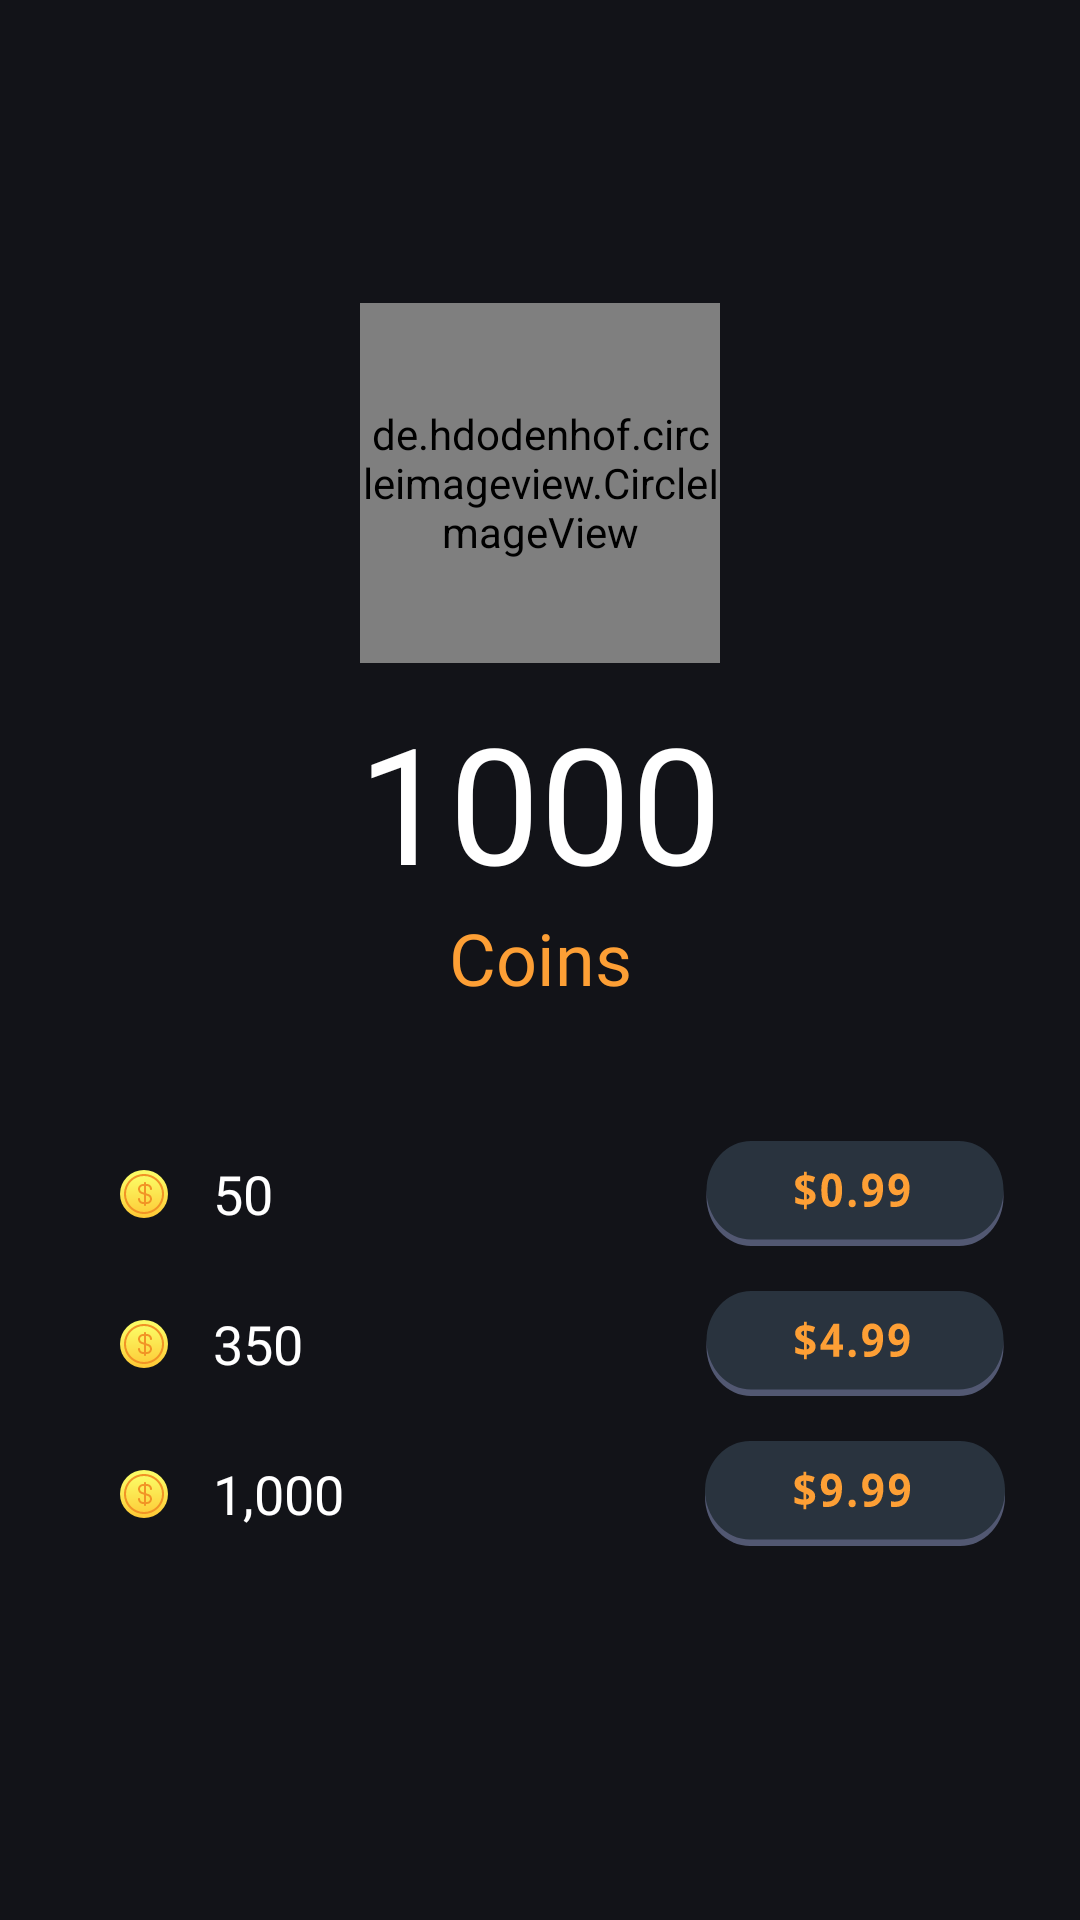

Screen size 1080 × 1920. Icon name, then its box in pixels as {"left": x1, "top": y1, "right": x2, "bottom": y2}:
coin: {"left": 120, "top": 1170, "right": 168, "bottom": 1218}, {"left": 120, "top": 1320, "right": 168, "bottom": 1368}, {"left": 120, "top": 1470, "right": 168, "bottom": 1518}
